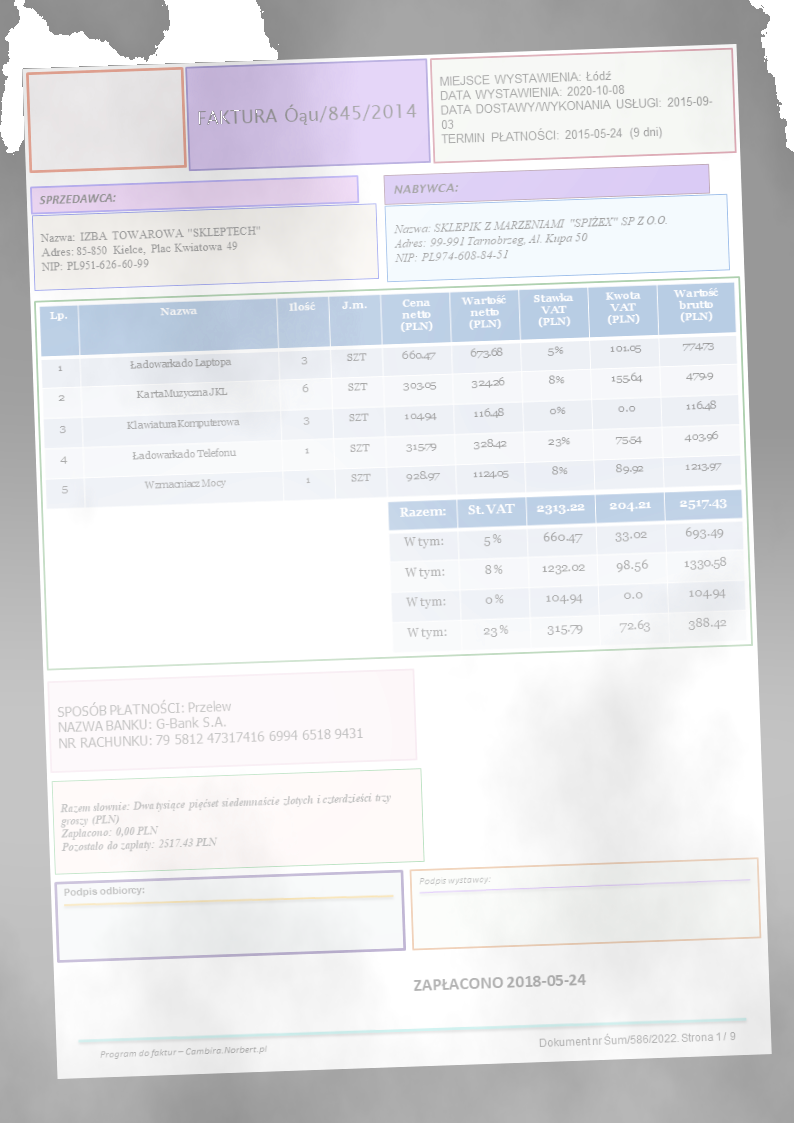Table: (38, 279, 740, 509), (387, 487, 748, 655)
TextBox: (436, 62, 716, 149), (57, 787, 396, 855), (54, 689, 367, 755), (391, 210, 671, 264), (37, 220, 264, 276), (194, 97, 419, 132), (411, 969, 589, 995), (535, 1027, 736, 1050), (97, 1041, 268, 1061), (61, 881, 148, 901), (416, 868, 491, 890), (37, 189, 118, 209), (389, 178, 461, 198)
